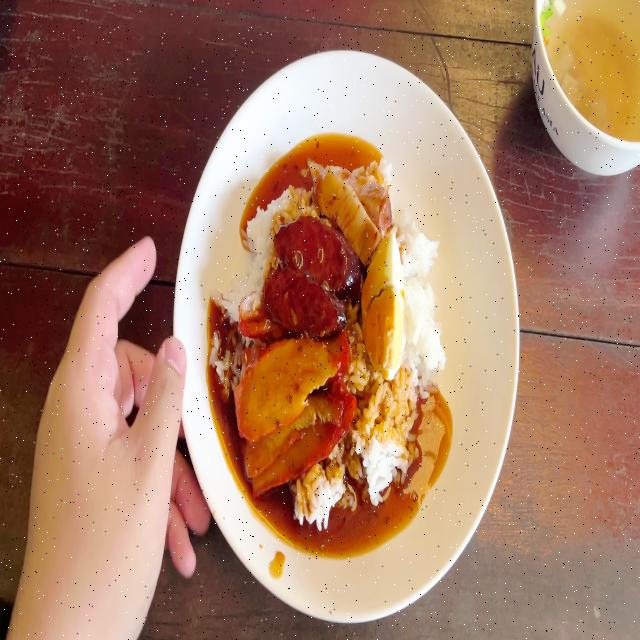boiled_egg: (364, 236, 405, 376)
chainese_sausage: (268, 216, 354, 340), (274, 216, 358, 278), (266, 287, 347, 337)
crispy_pork: (310, 161, 392, 252)
red_pork: (230, 345, 354, 479), (249, 396, 351, 484), (234, 341, 339, 405)
red_pork_and_crispy_pork: (210, 156, 448, 528)
rice: (354, 376, 417, 492), (406, 222, 444, 382)
